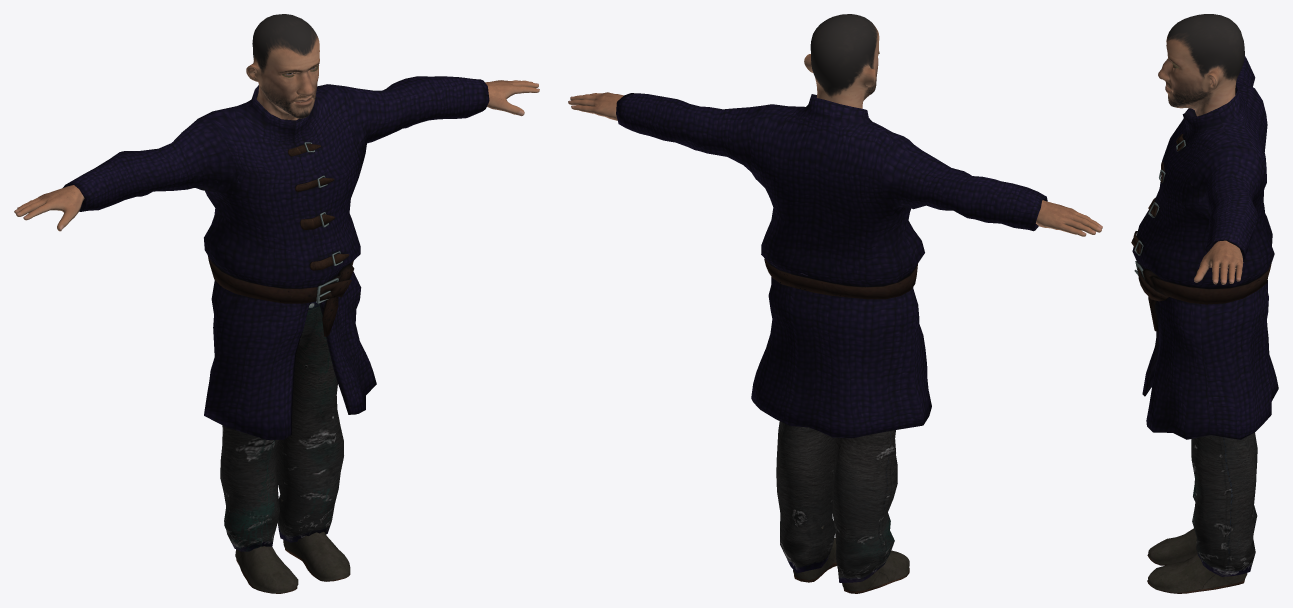
Rendered from captain.obj.
The picture shows the model from 3 angles, left to right: view 1: azimuth 30°, elevation 25°; view 2: azimuth 150°, elevation 25°; view 3: azimuth 270°, elevation 25°; orthographic projection.
Parts seen in each view (by area): view 1: Tops, Bottoms, Body, Shoes; view 2: Tops, Bottoms, Body, Shoes; view 3: Tops, Bottoms, Body, Shoes.
Boxes of the visible parts, x1,y1,x2,y2 form: Tops: [63, 76, 489, 439]; Bottoms: [220, 301, 343, 551]; Body: [14, 14, 539, 231]; Shoes: [235, 499, 350, 593]; Tops: [616, 93, 1047, 438]; Bottoms: [776, 421, 897, 582]; Body: [568, 14, 1102, 236]; Shoes: [793, 525, 909, 593]; Tops: [1131, 55, 1278, 439]; Bottoms: [1191, 432, 1257, 576]; Body: [1158, 14, 1244, 284]; Shoes: [1147, 528, 1247, 593].
Size of the model in its own units: 191 by 192 by 46.31.
Materials: 4 (4 with a texture image).
